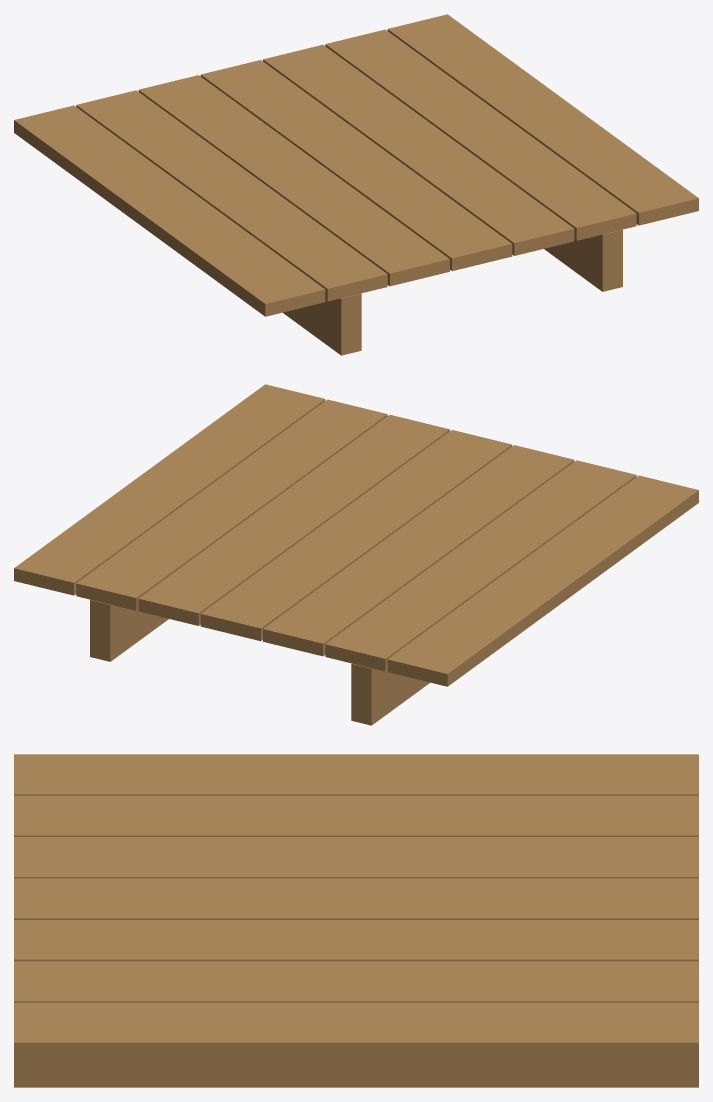
The model's file is home.garden.decking.glb.
3 renders of one model, top to bottom at view 1: azimuth 30°, elevation 25°; view 2: azimuth 150°, elevation 25°; view 3: azimuth 270°, elevation 25°, orthographic. The views are drawn at different scales.
Parts seen in each view (by area): view 1: main__softwood; view 2: main__softwood; view 3: main__softwood.
Part boxes in pixels (left/top/right/bottom): main__softwood: left=14, top=14, right=698, bottom=355; main__softwood: left=14, top=384, right=698, bottom=725; main__softwood: left=14, top=754, right=698, bottom=1087.
Bounding box in the file's own units: 0.996 × 0.154 × 1.
